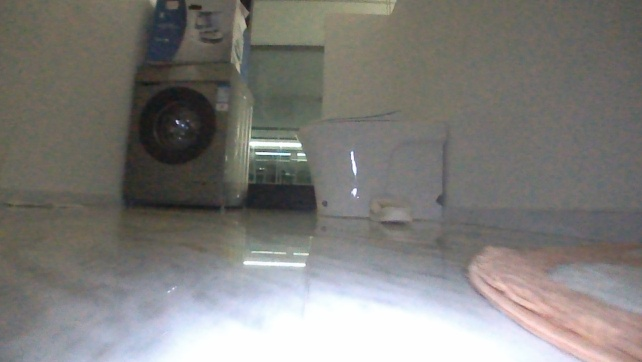blanket: (461, 231, 640, 361)
shoe: (364, 190, 418, 228)
toilet: (291, 107, 458, 222)
washing_machine: (115, 55, 259, 216)
